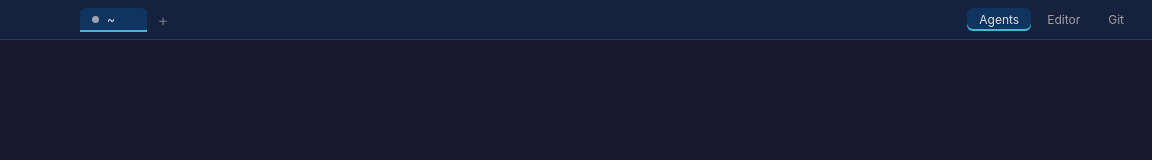
Scenario: TopBar — error handling › new tab menu › toggles menu on repeated clicks of + button
The width and height of the screenshot is (1152, 160).
Click the button with test id "new-tab-button". click: (163, 20)
box: x1=151 y1=8 x2=175 y2=32
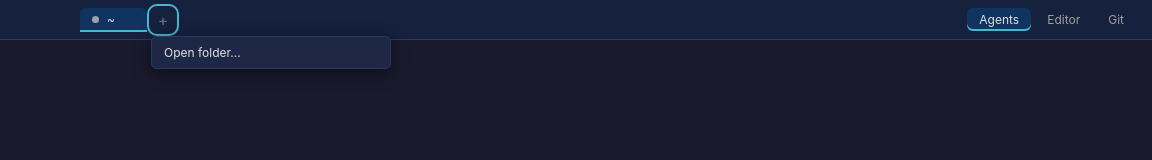
expect the element with test id "new-tab-menu" is shown: met, box x1=151 y1=36 x2=391 y2=68
Click the button with test id "new-tab-button". click: (163, 20)
box: x1=151 y1=8 x2=175 y2=32
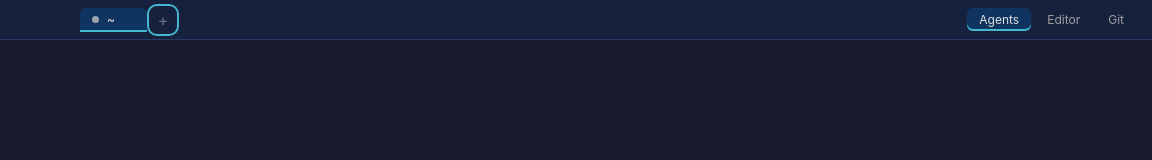
expect the element with test id "new-tab-menu" is gone: met
